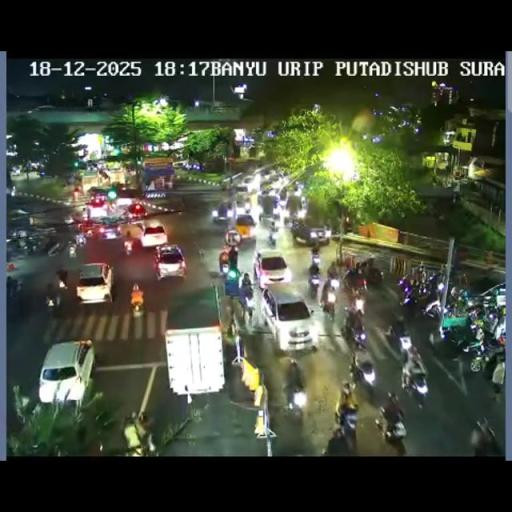Car: (260, 286, 318, 352), (38, 339, 94, 405), (76, 262, 114, 304), (252, 250, 290, 287), (153, 244, 186, 280), (290, 218, 330, 246), (140, 224, 167, 248), (234, 213, 256, 239), (211, 200, 234, 224), (115, 186, 142, 206), (86, 196, 110, 218), (264, 175, 284, 195), (99, 223, 122, 240), (240, 174, 258, 192), (128, 202, 146, 218), (172, 160, 190, 169)
Motorcycle: (330, 289, 424, 452), (462, 329, 504, 373), (430, 322, 467, 361), (400, 358, 429, 403), (335, 384, 359, 434), (376, 404, 406, 442), (349, 342, 376, 384), (341, 270, 368, 312), (470, 416, 499, 454), (342, 307, 366, 346), (282, 380, 308, 415), (398, 284, 421, 319), (325, 428, 353, 456), (238, 275, 254, 315), (319, 282, 337, 317), (6, 282, 24, 317), (384, 323, 402, 354), (449, 287, 470, 312), (46, 286, 64, 314), (423, 295, 443, 319), (223, 306, 237, 338), (22, 236, 46, 254), (464, 302, 485, 322), (492, 312, 506, 340), (6, 241, 24, 261), (42, 236, 61, 254), (309, 262, 321, 290), (218, 250, 230, 274), (131, 298, 144, 318), (398, 333, 412, 351), (56, 268, 68, 289), (267, 224, 278, 245), (357, 258, 369, 276), (417, 265, 427, 285), (310, 250, 321, 266), (75, 231, 86, 247), (272, 210, 282, 227), (228, 185, 237, 203), (242, 198, 252, 214), (68, 242, 77, 258), (299, 194, 308, 210), (124, 240, 133, 255), (63, 214, 74, 226), (277, 196, 286, 210), (330, 276, 339, 290), (220, 181, 229, 191), (324, 228, 331, 238)
